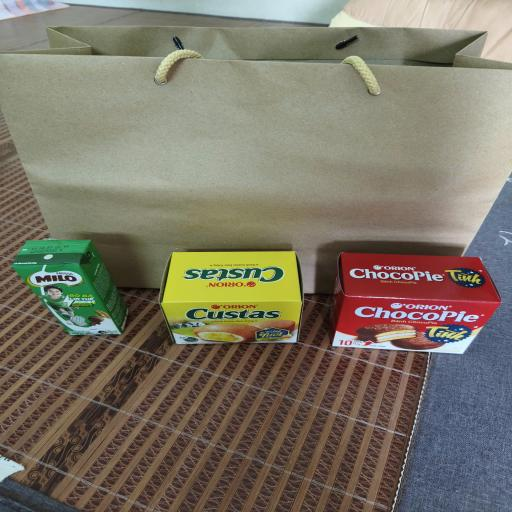chocopie: (332, 252, 502, 354)
custas: (158, 252, 304, 344)
milo: (11, 239, 127, 336)
